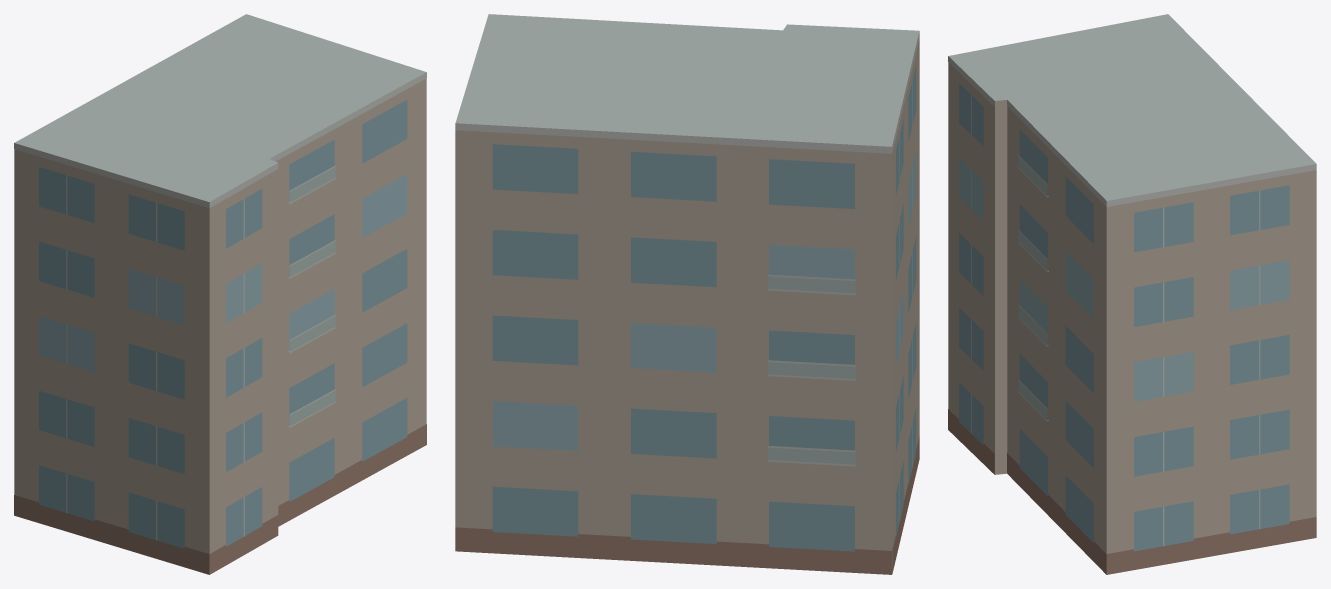
The model's file is survey-upis-32998283.glb.
The picture shows the model from 3 angles, left to right: view 1: azimuth 30°, elevation 25°; view 2: azimuth 150°, elevation 25°; view 3: azimuth 270°, elevation 25°; orthographic projection. The views are drawn at different scales.
Visible parts, largest first — view 1: survey-upis-32998283.tmp; view 2: survey-upis-32998283.tmp; view 3: survey-upis-32998283.tmp.
Part boxes in pixels (bbox=[...]): survey-upis-32998283.tmp: bbox=[14, 14, 426, 574]; survey-upis-32998283.tmp: bbox=[455, 14, 919, 574]; survey-upis-32998283.tmp: bbox=[948, 14, 1316, 574].
Bounding box in the file's own units: 16.1 × 15 × 13.41.
